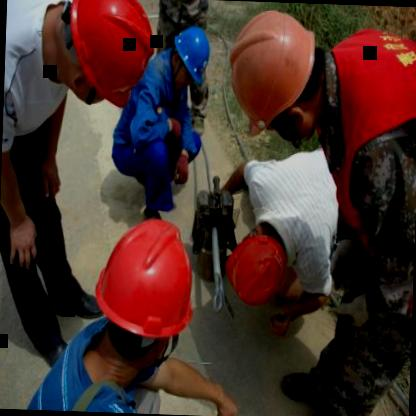helmet: (84, 204, 209, 383), (220, 0, 334, 150), (60, 0, 162, 105), (223, 216, 291, 308), (167, 19, 215, 99)
